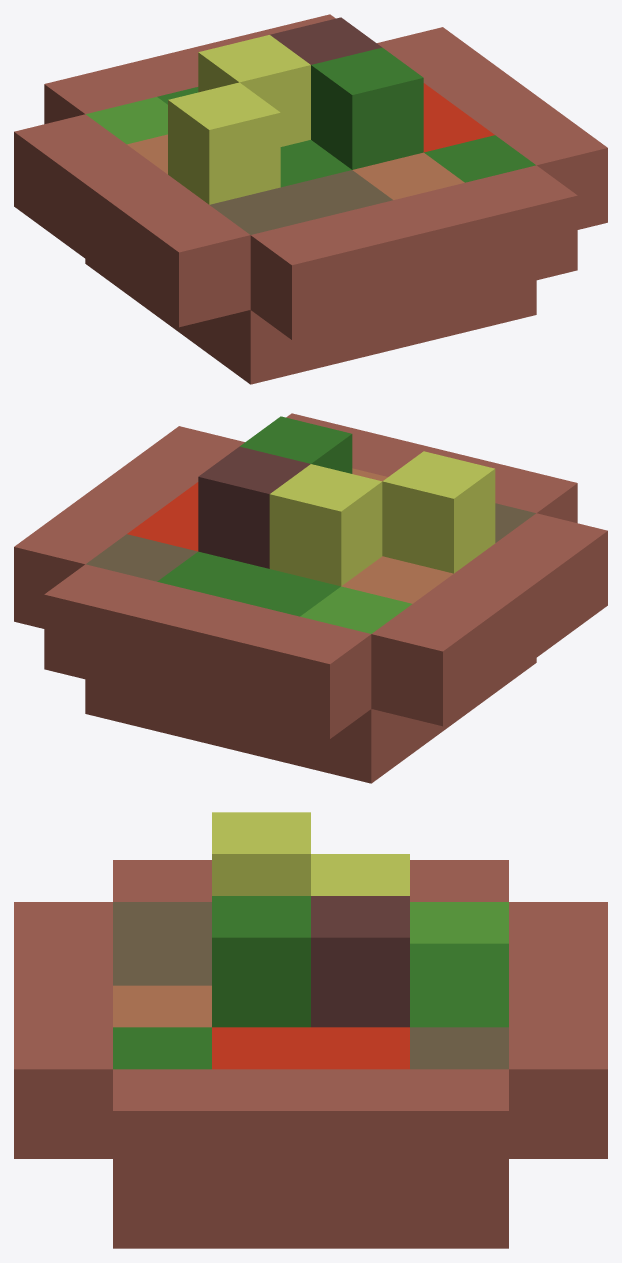
File: Boat_Booth-4-Plate_Food.obj
The picture shows the model from 3 angles, top to bottom: view 1: azimuth 30°, elevation 25°; view 2: azimuth 150°, elevation 25°; view 3: azimuth 270°, elevation 25°; orthographic projection. The views are drawn at different scales.
Visible parts, largest first — view 1: Plate_Food; view 2: Plate_Food; view 3: Plate_Food.
Boxes of the visible parts, <box> form: Plate_Food: <box>14,14,607,384</box>; Plate_Food: <box>14,413,607,783</box>; Plate_Food: <box>14,812,607,1248</box>.
Size of the model in its own units: 0.12 by 0.06 by 0.12.
Materials: 1 (1 with a texture image).
